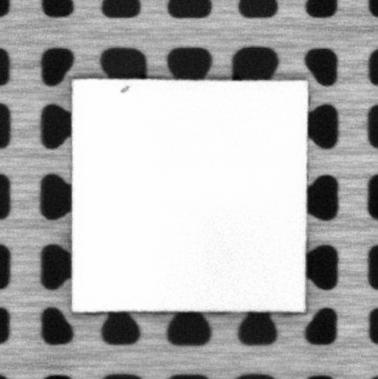DIE_INK: (119, 84, 132, 94)
